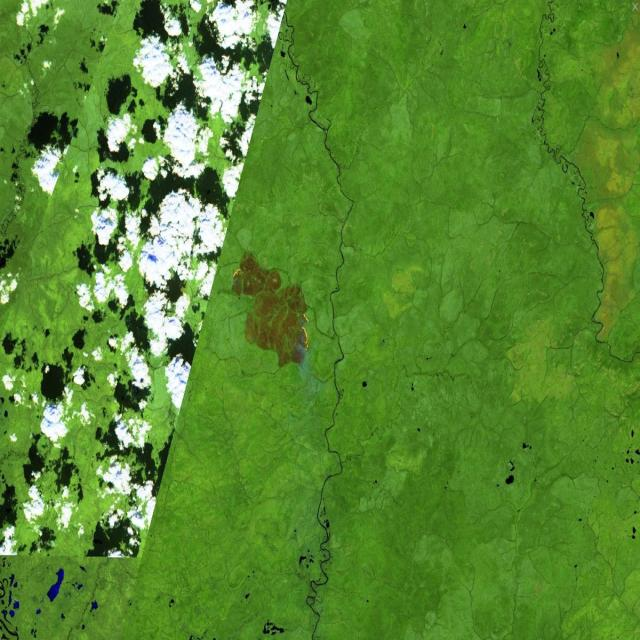fire: (229, 264, 312, 358)
